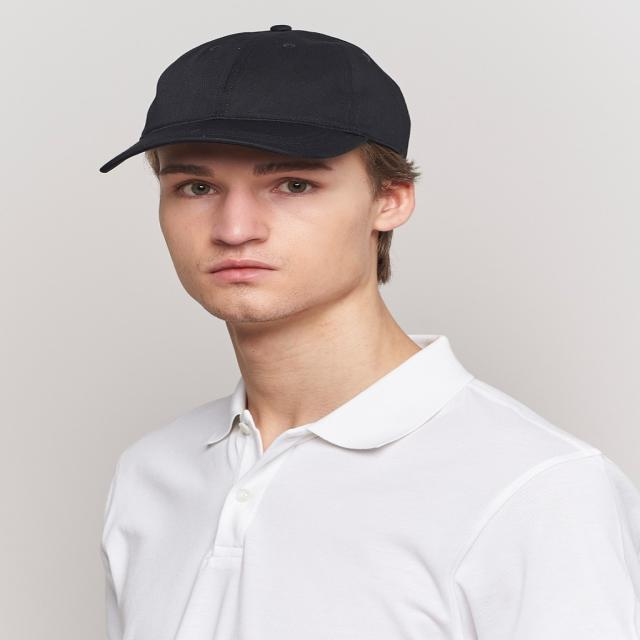Nonhelmet: (97, 21, 426, 326)
